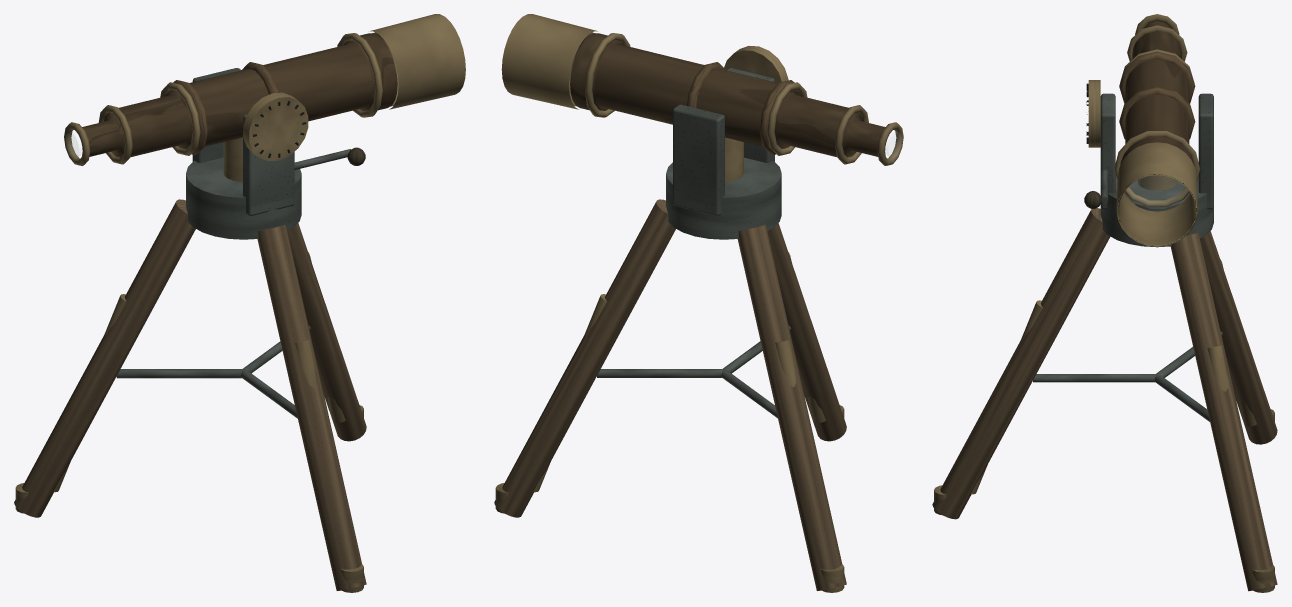
3 renders of one model, left to right at view 1: azimuth 30°, elevation 25°; view 2: azimuth 150°, elevation 25°; view 3: azimuth 270°, elevation 25°, orthographic. The views are drawn at different scales.
Parts seen in each view (by area): view 1: worn timber edges, aged brass fittings (×2), oiled dark leather, forged iron (×2), waxed leather; view 2: worn timber edges, oiled dark leather, forged iron (×2), aged brass fittings (×2), waxed leather; view 3: worn timber edges, aged brass fittings (×2), forged iron (×2), oiled dark leather, waxed leather, blown glass.
Part boxes in pixels (x1,y1,x2,y2): worn timber edges: [14, 199, 366, 590]; aged brass fittings (×2): [15, 14, 465, 592]; oiled dark leather: [74, 33, 397, 158]; forged iron (×2): [116, 68, 350, 418]; waxed leather: [173, 62, 278, 155]; worn timber edges: [494, 199, 846, 590]; oiled dark leather: [570, 33, 893, 158]; forged iron (×2): [597, 68, 791, 418]; aged brass fittings (×2): [495, 14, 903, 592]; waxed leather: [687, 62, 794, 154]; worn timber edges: [932, 208, 1277, 591]; aged brass fittings (×2): [934, 14, 1274, 592]; forged iron (×2): [1033, 93, 1222, 421]; oiled dark leather: [1120, 21, 1194, 165]; waxed leather: [1119, 51, 1195, 139]; blown glass: [1127, 176, 1187, 208].
Bounding box in the file's own units: 0.5624 × 0.6443 × 0.4575.
8 materials, 6 textured.
